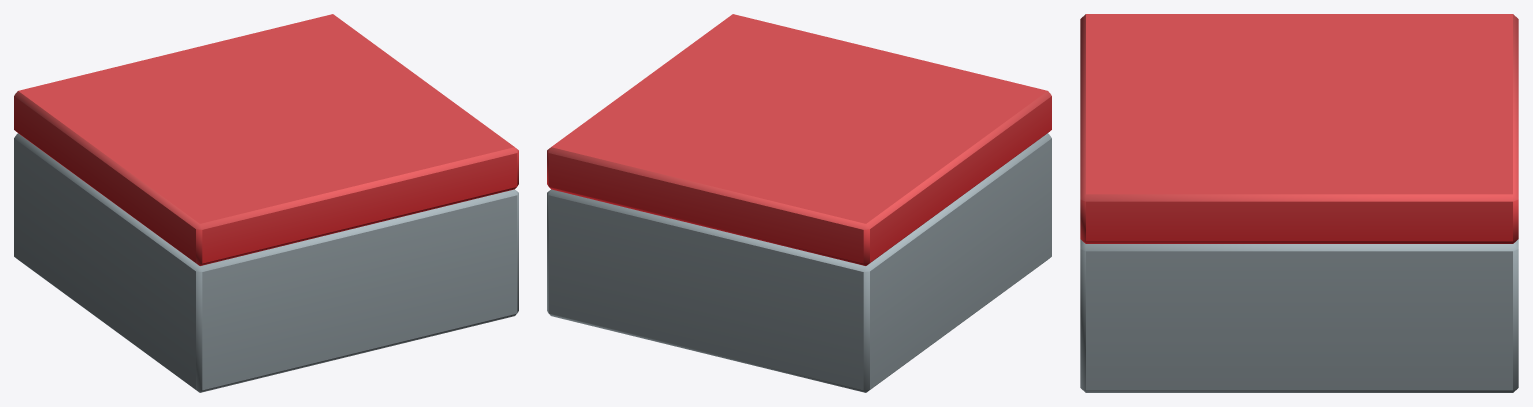
File: platform_4x4x2_red.glb
3 renders of one model, left to right at view 1: azimuth 30°, elevation 25°; view 2: azimuth 150°, elevation 25°; view 3: azimuth 270°, elevation 25°, orthographic. The views are drawn at different scales.
Visible parts, largest first — view 1: platform_4x4x2_red; view 2: platform_4x4x2_red; view 3: platform_4x4x2_red.
Part boxes in pixels (x1=…): platform_4x4x2_red: x1=14, y1=14, x2=518, y2=392; platform_4x4x2_red: x1=547, y1=14, x2=1051, y2=392; platform_4x4x2_red: x1=1080, y1=14, x2=1518, y2=392.
Bounding box in the file's own units: 4 × 2 × 4.
1 material, 1 textured.
